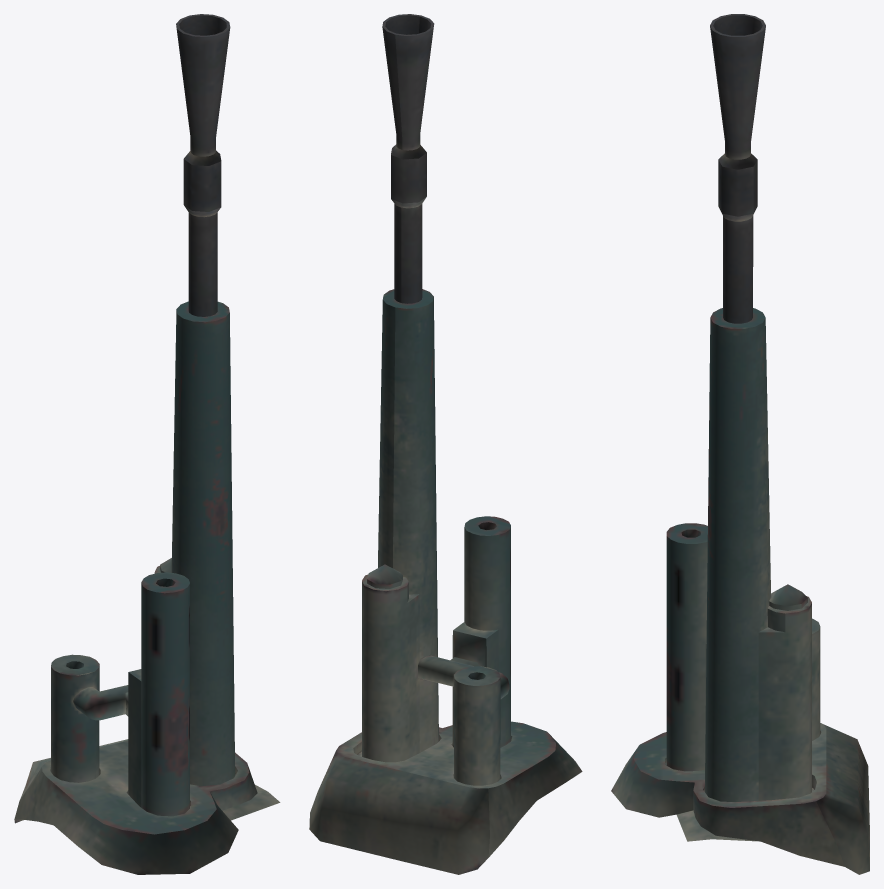
Rendered from Gun_02.glb.
3 renders of one model, left to right at view 1: azimuth 30°, elevation 25°; view 2: azimuth 150°, elevation 25°; view 3: azimuth 270°, elevation 25°, orthographic. The views are drawn at different scales.
Parts seen in each view (by area): view 1: set_0_group_0; view 2: set_0_group_0; view 3: set_0_group_0.
Part boxes in pixels (x1,y1,x2,y2): set_0_group_0: [14, 14, 280, 874]; set_0_group_0: [309, 14, 582, 874]; set_0_group_0: [611, 14, 869, 874].
Bounding box in the file's own units: 0.3003 × 1.18 × 0.3317.
Materials: 1 (1 with a texture image).
